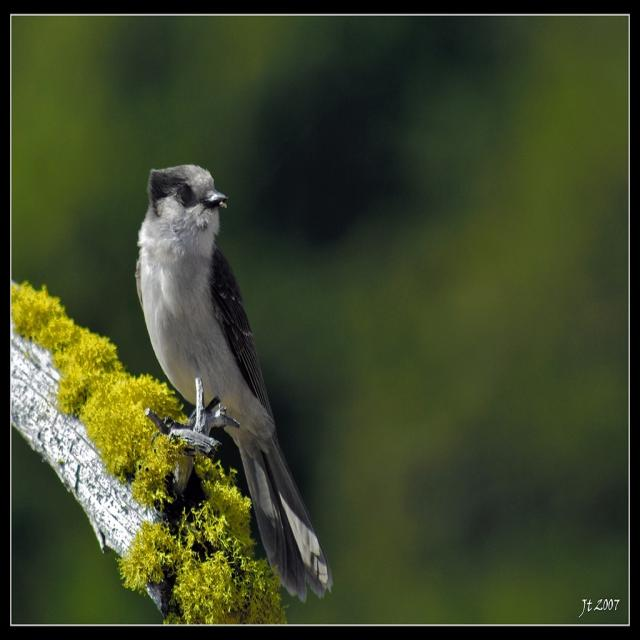bird: (132, 155, 334, 606)
